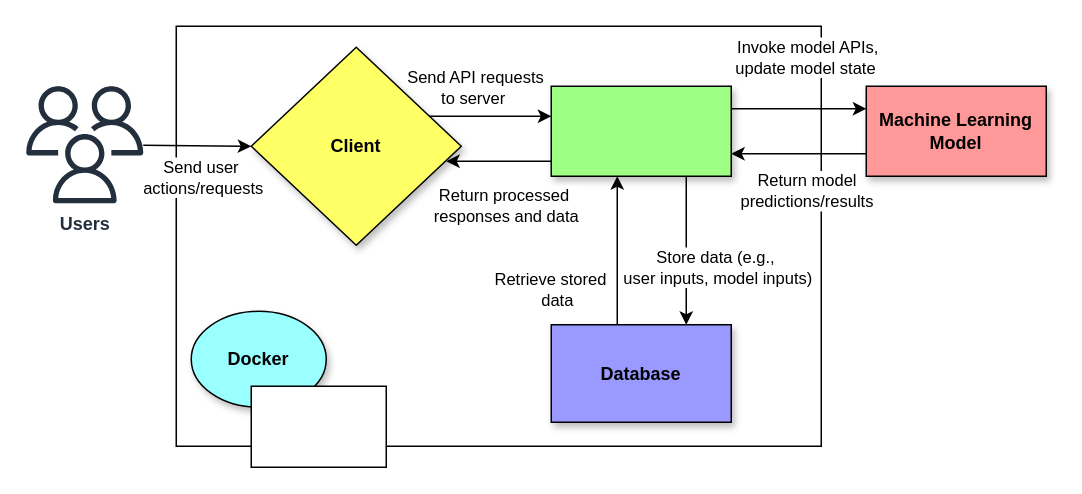
Image size: 1082x494. Some labels were removed from this diagram. The centre of each missing label's shape, as x and y in pixels:
"Containerize components in Docker" goes at pixel 318 426.
"Server" goes at pixel 642 133.
